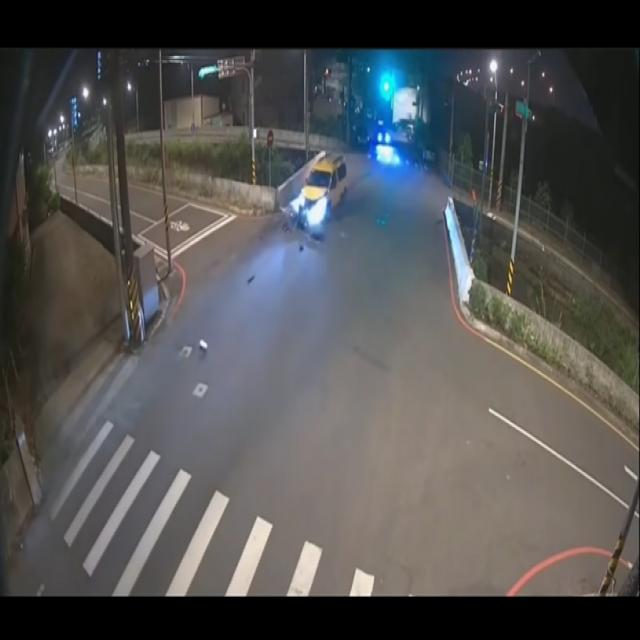accident: (269, 181, 349, 255)
